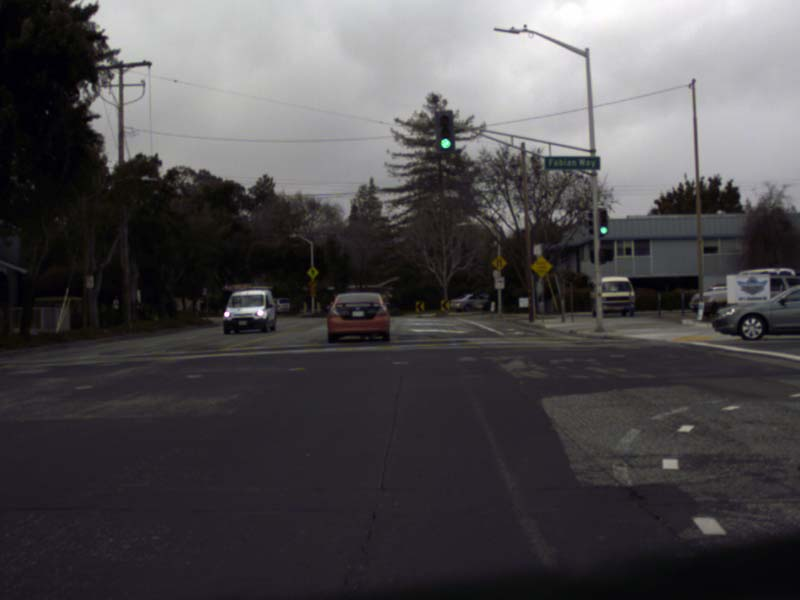Green: (435, 112, 454, 151), (598, 208, 606, 234)
